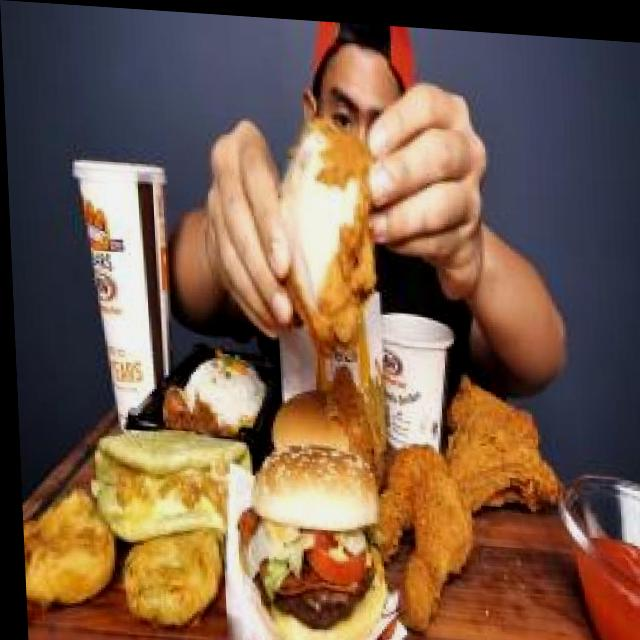AW cola: (70, 138, 195, 444)
black pepper rice bowl: (141, 332, 273, 452)
cheese burger: (255, 358, 363, 458)
fried chicken: (367, 362, 564, 640), (266, 96, 405, 361)
mango chicken pocket: (81, 409, 254, 545)
mozza burger: (227, 424, 390, 640)
perkedel: (108, 508, 227, 637), (17, 485, 111, 618)
